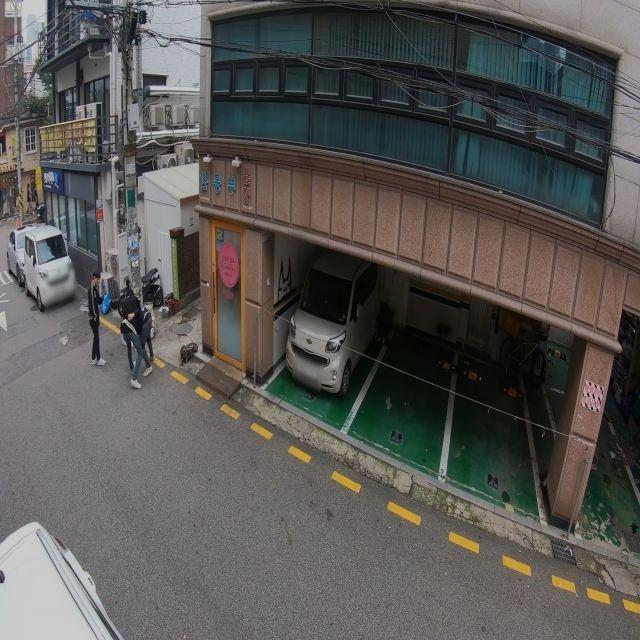fight: (118, 276, 153, 388)
non-fight: (86, 270, 105, 363)
